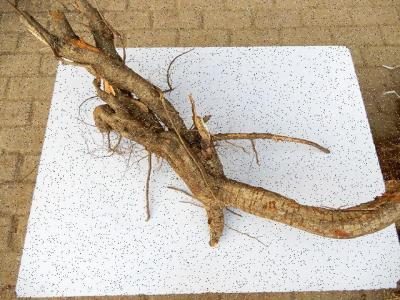Root: (16, 0, 399, 246)
